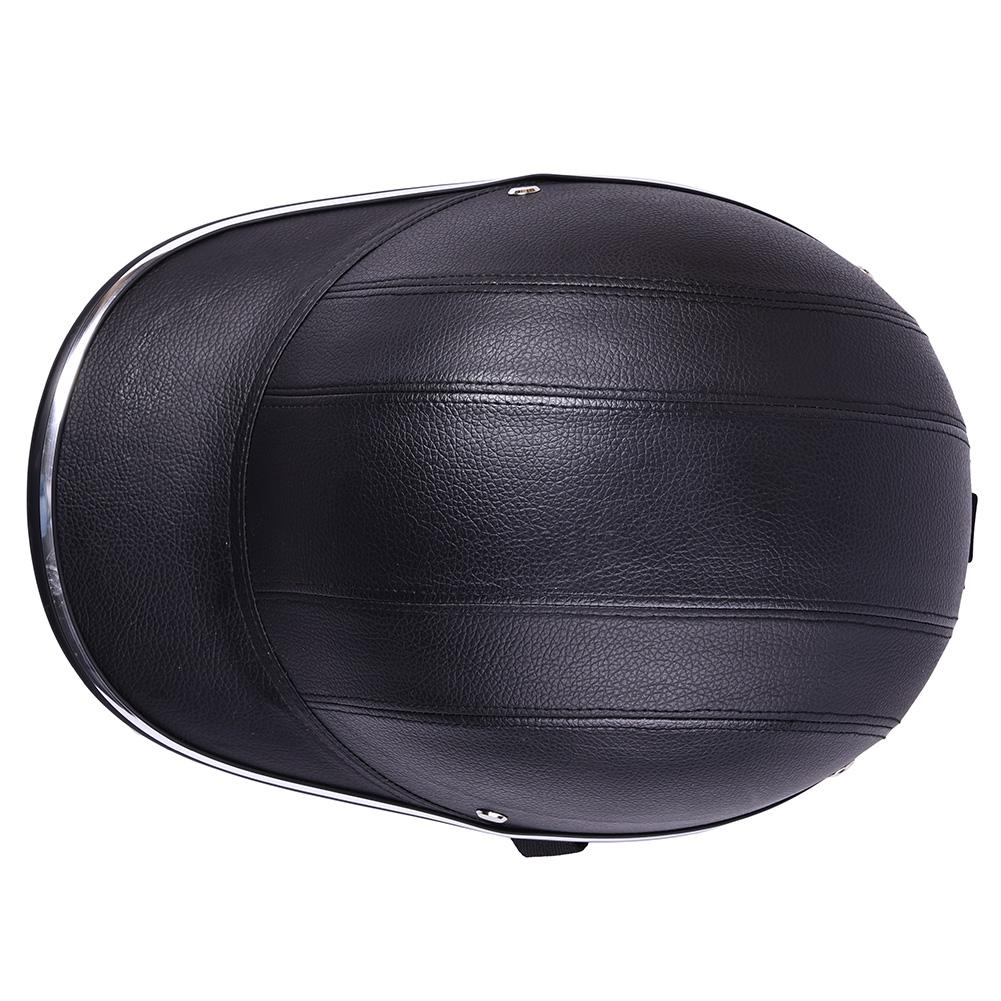helmet: (14, 171, 982, 867)
